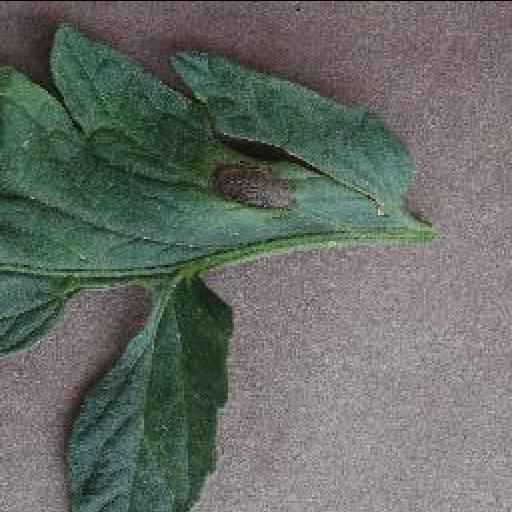disease_tomato: (0, 21, 412, 357)
